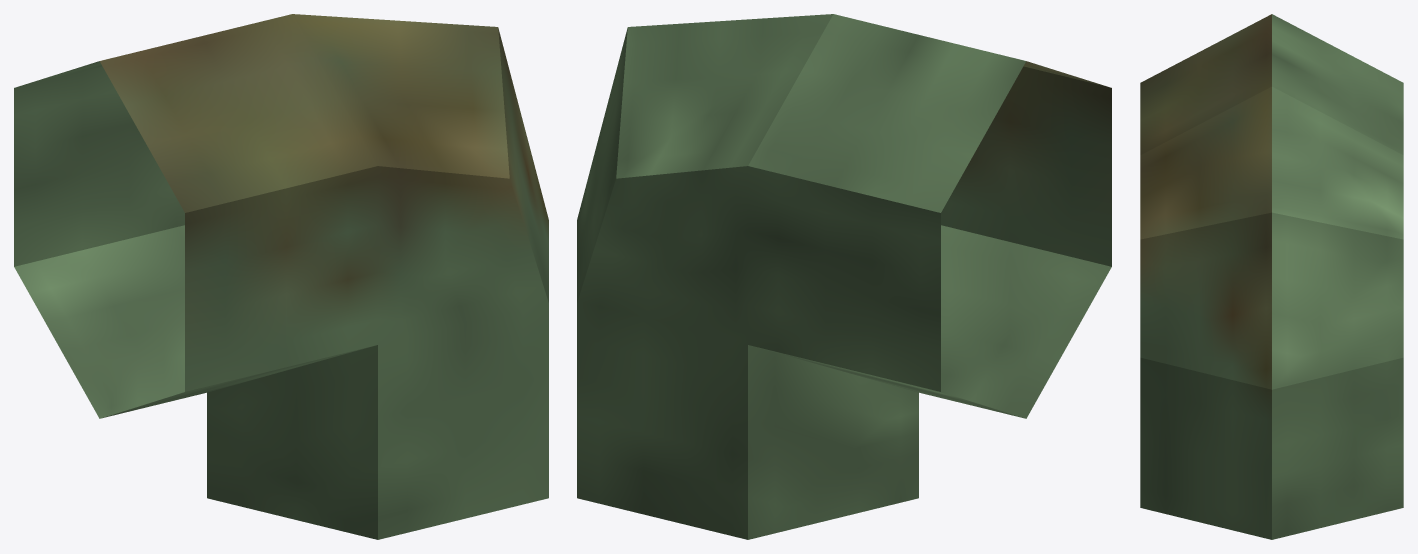
Rendered from MESH_PIPE_MEDIUM_2_003.fbx.
3 renders of one model, left to right at view 1: azimuth 30°, elevation 25°; view 2: azimuth 150°, elevation 25°; view 3: azimuth 270°, elevation 25°, orthographic. The views are drawn at different scales.
Parts seen in each view (by area): view 1: MESH_PIPE_MEDIUM_2.003; view 2: MESH_PIPE_MEDIUM_2.003; view 3: MESH_PIPE_MEDIUM_2.003.
Boxes of the visible parts, x1,y1,x2,y2 form: MESH_PIPE_MEDIUM_2.003: [14, 14, 548, 539]; MESH_PIPE_MEDIUM_2.003: [577, 14, 1111, 539]; MESH_PIPE_MEDIUM_2.003: [1140, 14, 1403, 539].
Size of the model in its own units: 0.3339 by 0.3291 by 0.2201.
